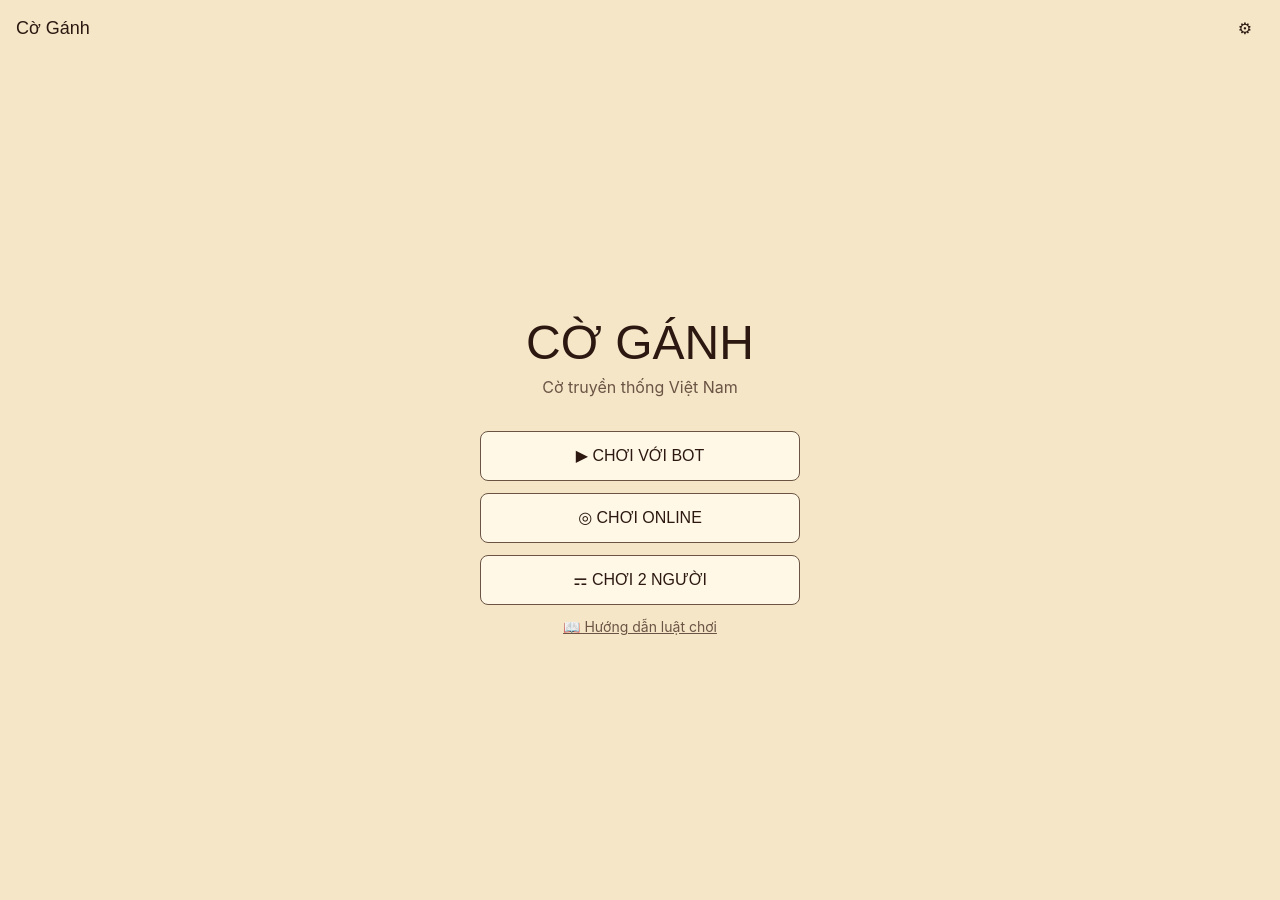
it: HomePage › closes settings via close button
Click the button named "Cài đặt": click(1245, 28) [1226, 12, 1264, 44]
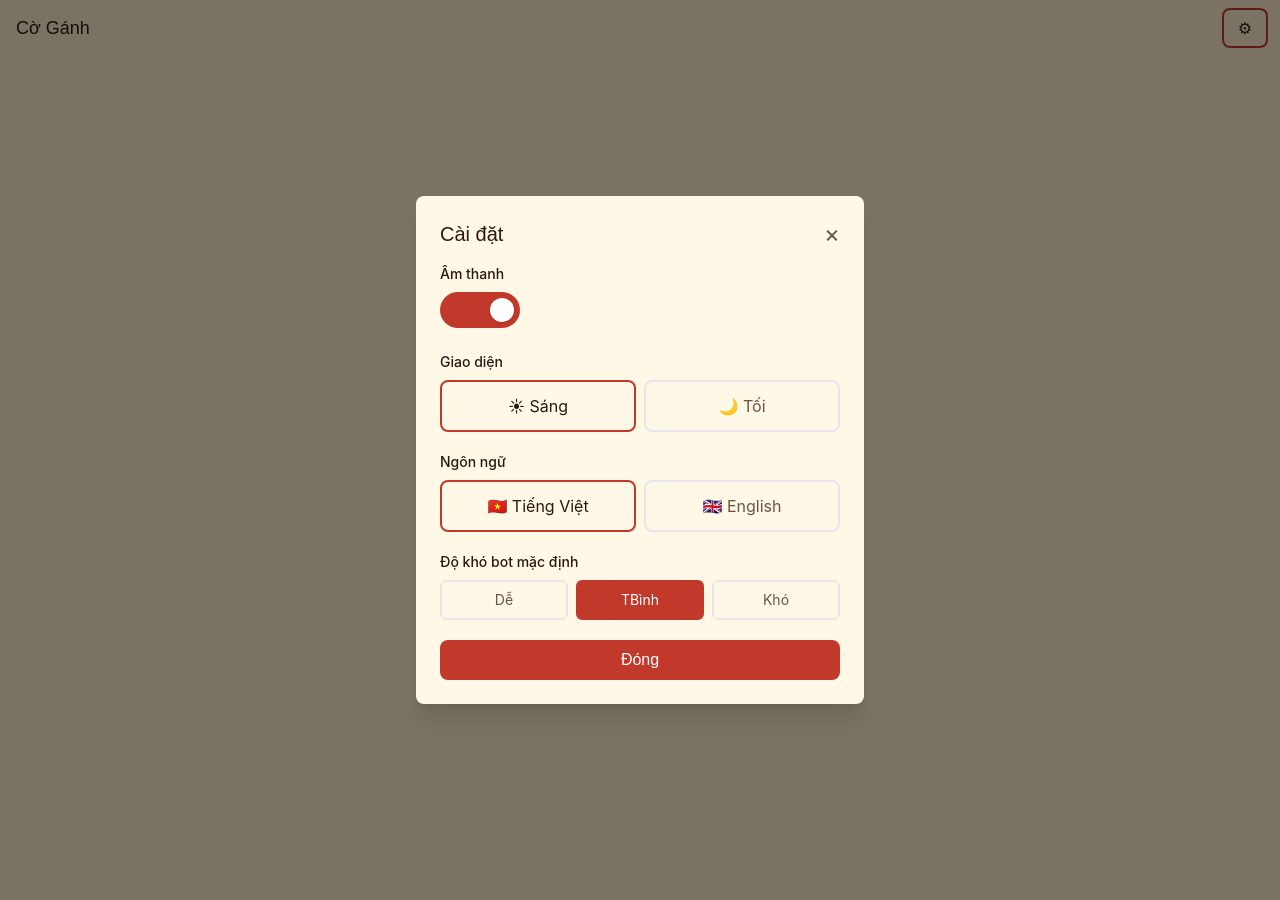
Click the button named "Đóng": click(832, 234) [824, 222, 840, 246]
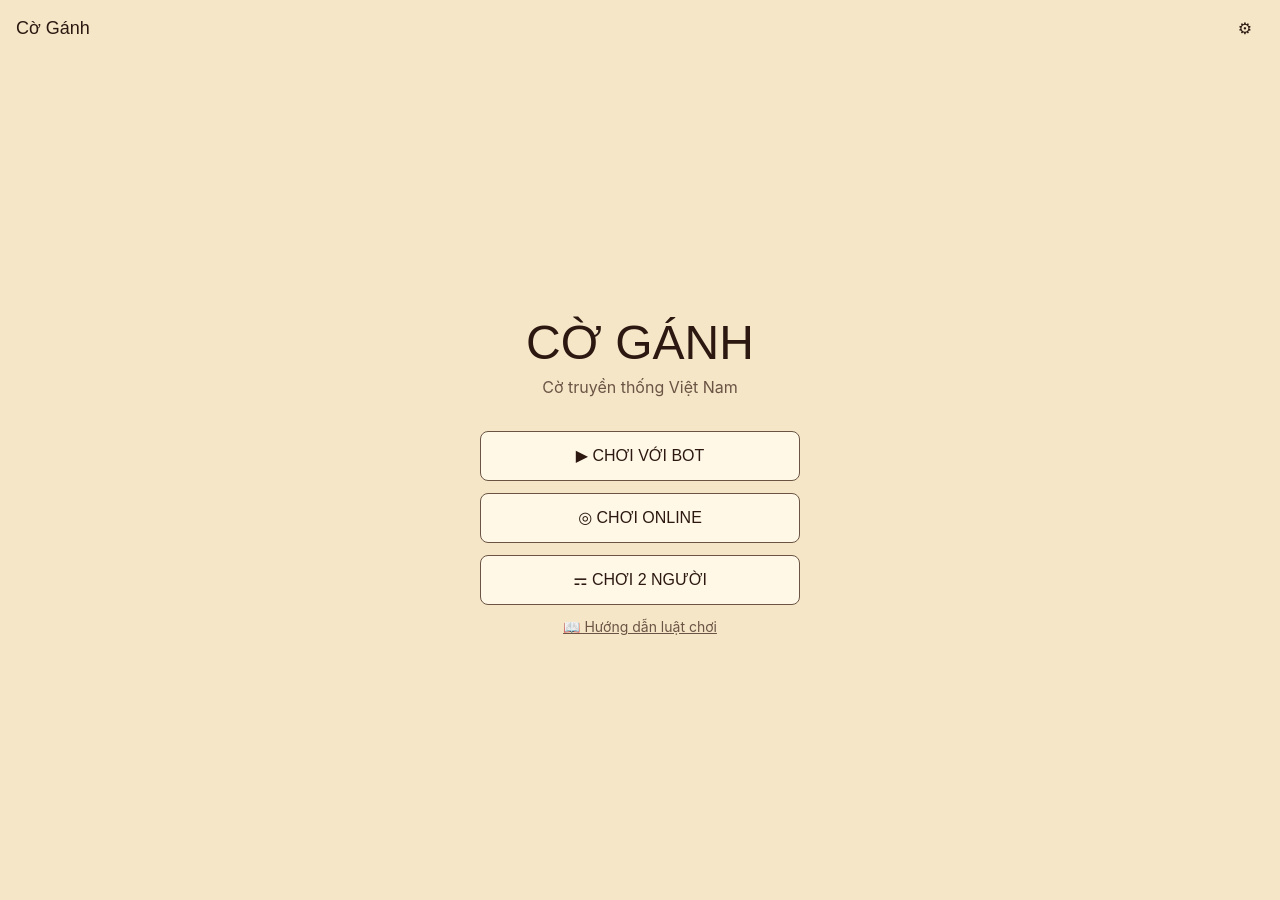
Expected: the dialog is gone
